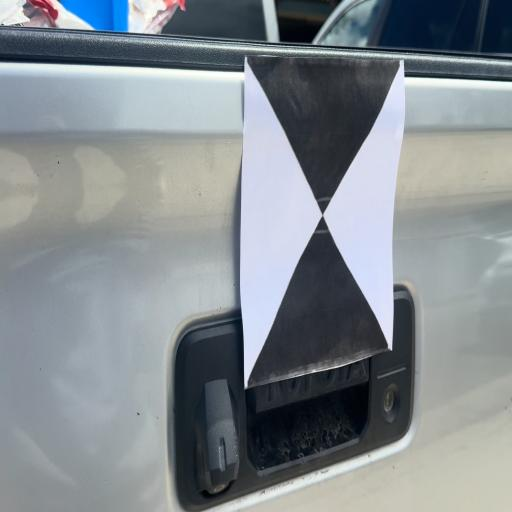target: (243, 59, 403, 391)
